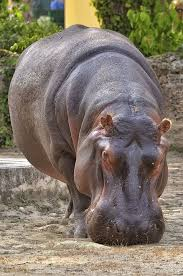Hippopotamus: (9, 23, 174, 246)
